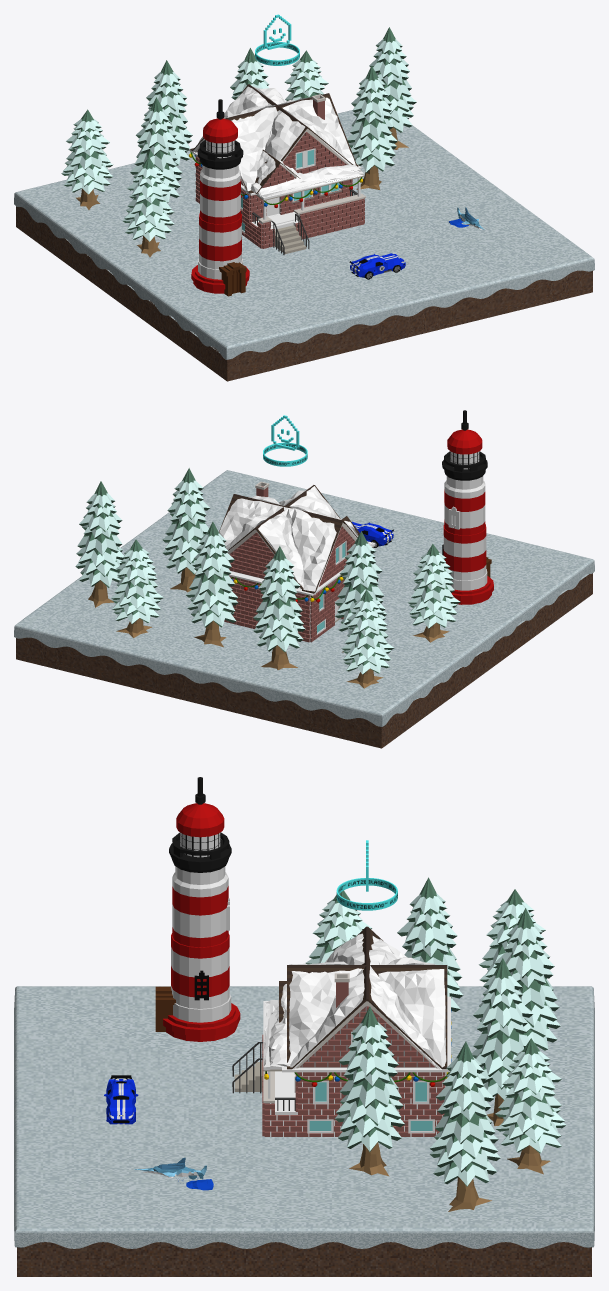
3 renders of one model, top to bottom at view 1: azimuth 30°, elevation 25°; view 2: azimuth 150°, elevation 25°; view 3: azimuth 270°, elevation 25°, orthographic. The views are drawn at different scales.
Visible parts, largest first — view 1: Cube.003, Cube.1419, OBJRANDOM_LIGHTHOUSE, VEHICLES_RACING_CAR, TYPE_PREMIUM; view 2: Cube.003, Cube.1419, OBJRANDOM_LIGHTHOUSE, TYPE_PREMIUM, VEHICLES_RACING_CAR; view 3: Cube.003, Cube.1419, OBJRANDOM_LIGHTHOUSE, VEHICLES_RACING_CAR, TYPE_PREMIUM, ANIMAL_PEZ_ESPADA.
Part boxes in pixels (bbox=[...]): Cube.003: bbox=[14, 27, 594, 381]; Cube.1419: bbox=[189, 84, 365, 255]; OBJRANDOM_LIGHTHOUSE: bbox=[191, 99, 249, 296]; VEHICLES_RACING_CAR: bbox=[349, 253, 405, 279]; TYPE_PREMIUM: bbox=[255, 14, 299, 65]; Cube.003: bbox=[14, 468, 594, 748]; Cube.1419: bbox=[219, 481, 377, 642]; OBJRANDOM_LIGHTHOUSE: bbox=[442, 410, 493, 604]; TYPE_PREMIUM: bbox=[263, 415, 307, 466]; VEHICLES_RACING_CAR: bbox=[352, 521, 393, 547]; Cube.003: bbox=[14, 877, 594, 1276]; Cube.1419: bbox=[232, 926, 451, 1136]; OBJRANDOM_LIGHTHOUSE: bbox=[155, 777, 240, 1041]; VEHICLES_RACING_CAR: bbox=[104, 1075, 138, 1124]; TYPE_PREMIUM: bbox=[336, 840, 397, 910]; ANIMAL_PEZ_ESPADA: bbox=[134, 1157, 213, 1190].
Bounding box in the file's own units: 4040 × 2445 × 4040.
Materials: 48 (4 with a texture image).
